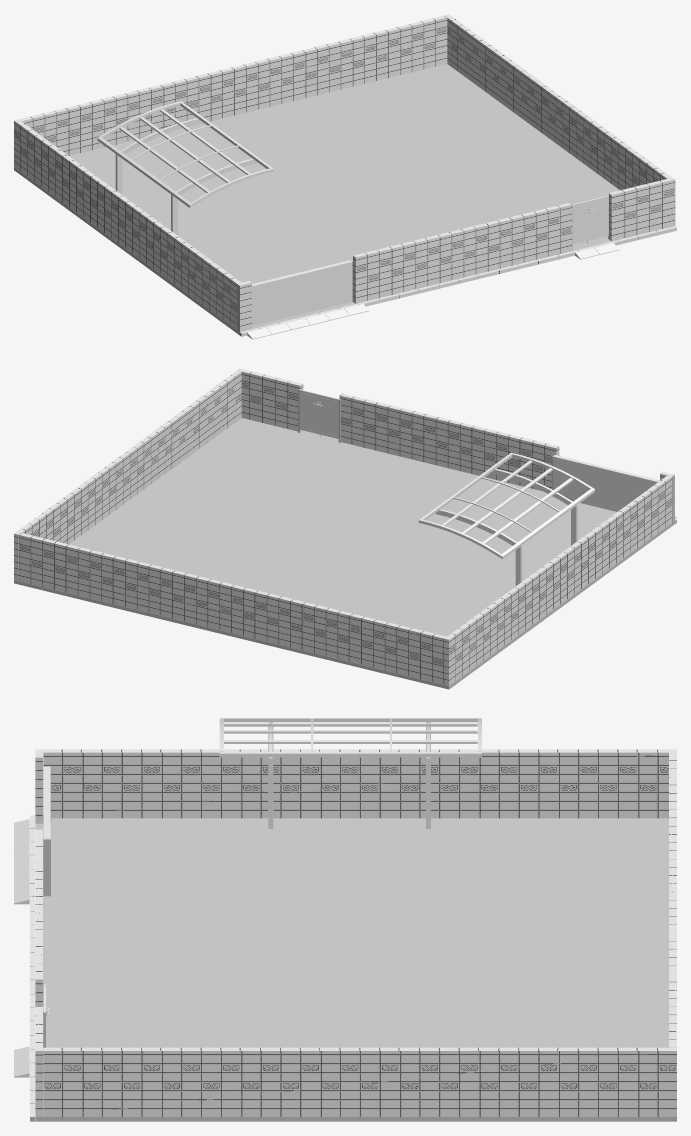
The model's file is Property_A2.fbx.
3 views of the same model, one above another, from view 1: azimuth 30°, elevation 25°; view 2: azimuth 150°, elevation 25°; view 3: azimuth 270°, elevation 25° (orthographic). The views are drawn at different scales.
Parts seen in each view (by area): view 1: Ground.002, Wall.10005, Wall.10029, Wall.10011, Wall.10023, CarPort.000, FenceWall.008, Step.007, Door.063, Door.371; view 2: Ground.002, Wall.10005, Wall.10029, Wall.10011, Wall.10023, CarPort.000, FenceWall.008, Door.371, Door.063; view 3: Ground.002, Wall.10023, Wall.10011, CarPort.000, Wall.10029, Wall.10005, Step.007.
Part boxes in pixels (x1=…): Ground.002: x1=14, y1=64, x2=676, y2=336; Wall.10005: x1=19, y1=15, x2=447, y2=155; Wall.10029: x1=237, y1=177, x2=675, y2=331; Wall.10011: x1=14, y1=119, x2=241, y2=329; Wall.10023: x1=444, y1=14, x2=671, y2=190; CarPort.000: x1=97, y1=101, x2=273, y2=235; FenceWall.008: x1=252, y1=260, x2=352, y2=325; Step.007: x1=247, y1=304, x2=368, y2=339; Door.063: x1=588, y1=196, x2=608, y2=240; Door.371: x1=572, y1=200, x2=589, y2=244; Ground.002: x1=14, y1=418, x2=676, y2=689; Wall.10005: x1=19, y1=533, x2=446, y2=684; Wall.10029: x1=237, y1=368, x2=674, y2=522; Wall.10011: x1=444, y1=475, x2=671, y2=685; Wall.10023: x1=14, y1=370, x2=241, y2=580; CarPort.000: x1=418, y1=452, x2=594, y2=585; FenceWall.008: x1=554, y1=455, x2=659, y2=511; Door.371: x1=318, y1=394, x2=338, y2=438; Door.063: x1=299, y1=389, x2=319, y2=434; Ground.002: x1=30, y1=815, x2=676, y2=1121; Wall.10023: x1=43, y1=1047, x2=676, y2=1116; Wall.10011: x1=43, y1=749, x2=676, y2=818; CarPort.000: x1=219, y1=718, x2=481, y2=828; Wall.10029: x1=35, y1=749, x2=50, y2=1116; Wall.10005: x1=669, y1=752, x2=676, y2=1047; Step.007: x1=14, y1=819, x2=29, y2=904.
Bounding box in the file's own units: 1359 × 284 × 1262.
